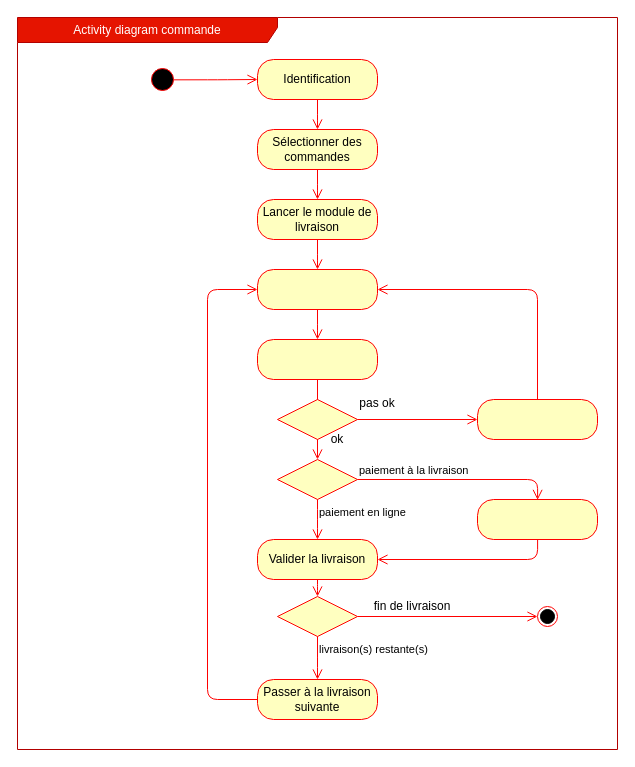
Image size: 635x767. Some labels were removed from this diagram. Each missing label, with the centre of its shape:
Lancement du GPS: (317,289)
Mettre en attente: (537,419)
Valider la destination: (317,359)
Valider le paiement: (537,519)
